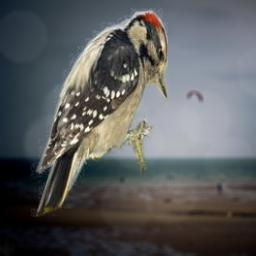Woodpecker: (25, 8, 168, 223)
